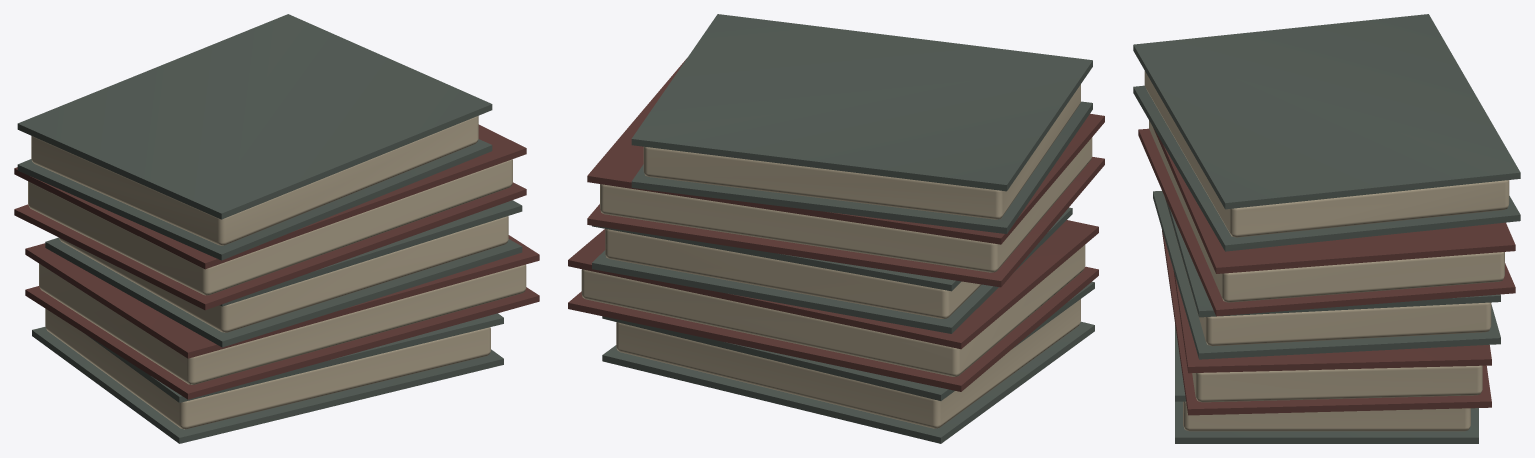
Rendered from prop-books-stack-v01.glb.
The picture shows the model from 3 angles, left to right: view 1: azimuth 30°, elevation 25°; view 2: azimuth 150°, elevation 25°; view 3: azimuth 270°, elevation 25°; orthographic projection. The views are drawn at different scales.
Visible parts, largest first — view 1: books-stack; view 2: books-stack; view 3: books-stack.
Part boxes in pixels (box(x1,y1,x2,y2)): books-stack: box(14, 14, 539, 443); books-stack: box(568, 14, 1104, 443); books-stack: box(1133, 14, 1520, 443).
Bounding box in the file's own units: 0.3526 × 0.199 × 0.2827.
